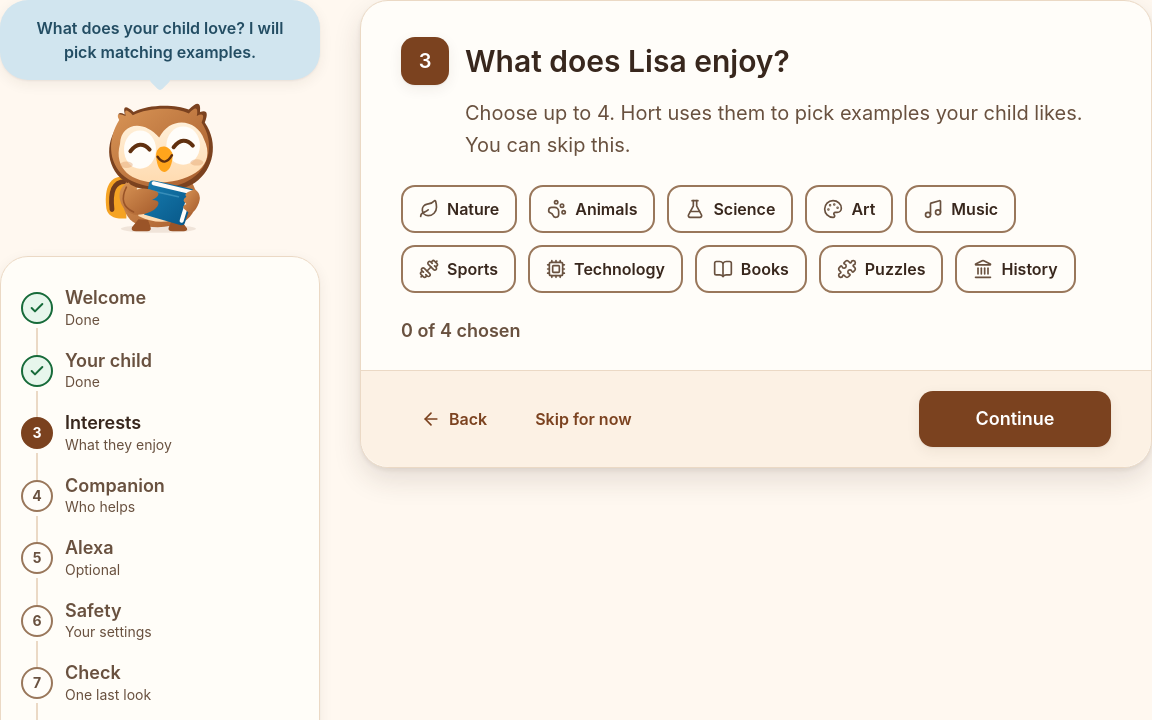
Test: onboarding flow › locks further interests at the limit
Click the button "Nature" at (459, 209), box 401,185 -> 517,233
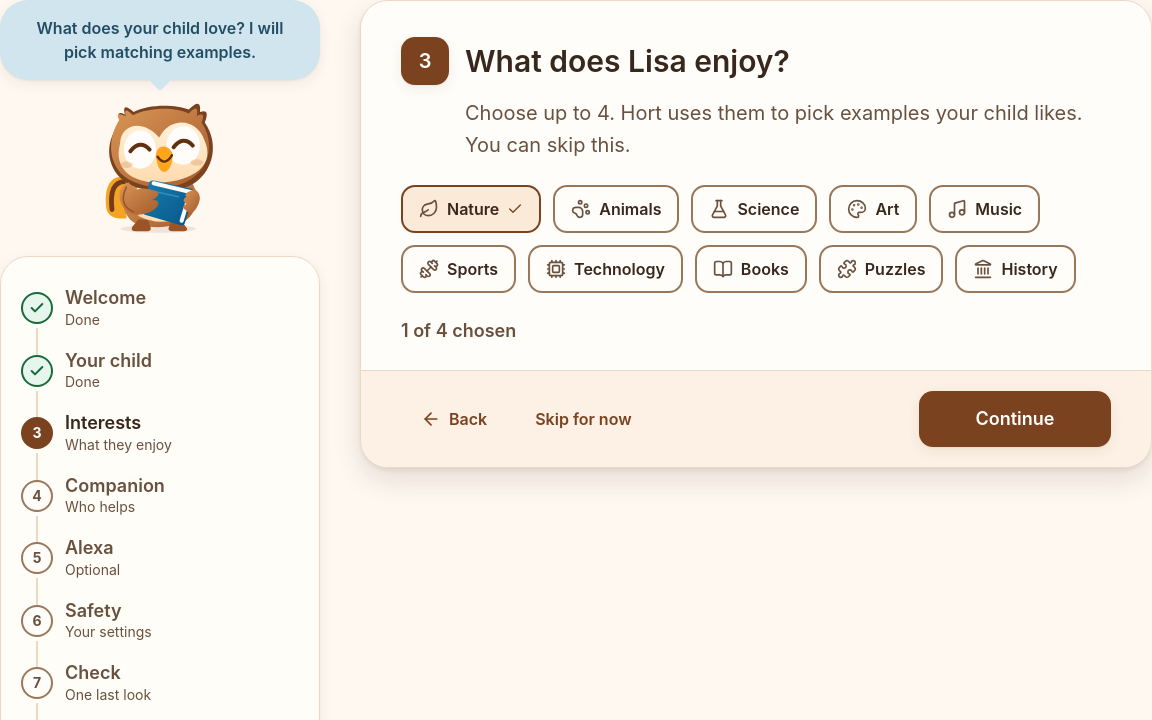
Click the button "Animals" at (616, 209), box 553,185 -> 680,233
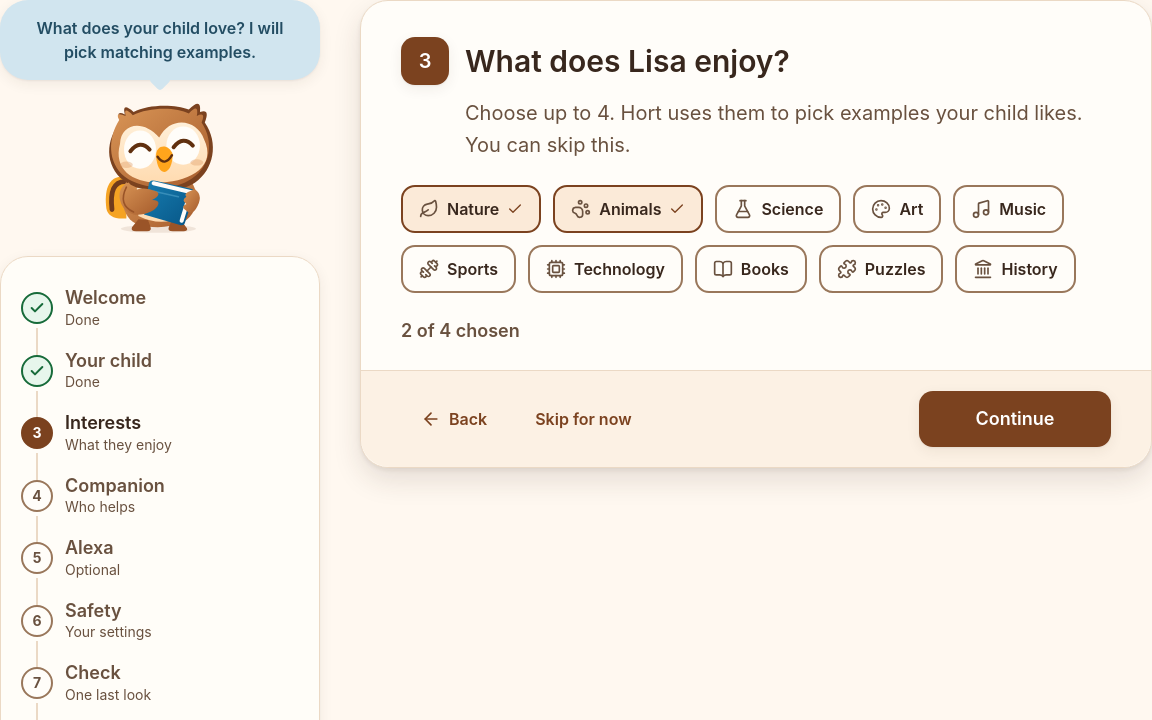
Click the button "Art" at (897, 209), box 853,185 -> 941,233
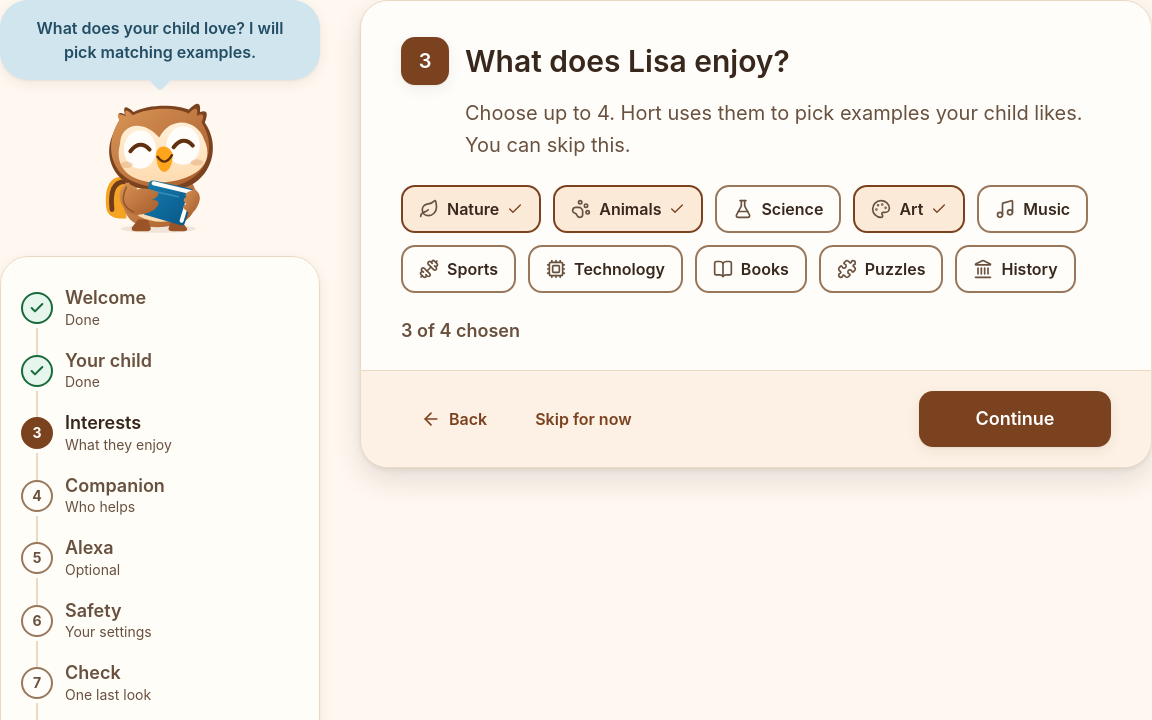
Click the button "Music" at (1033, 209), box 977,185 -> 1088,233
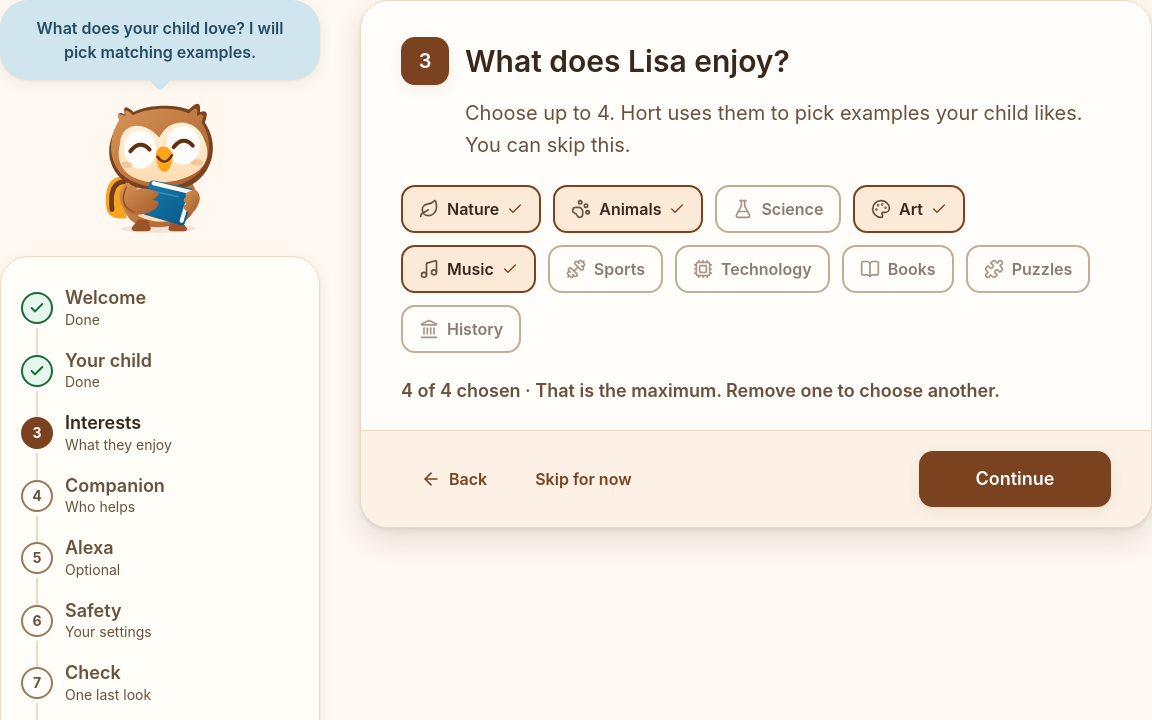
Check: the button "Sports" is disabled, box 548,245 -> 663,293
Check: the text "That is the maximum" is shown, box 521,380 -> 1000,401
